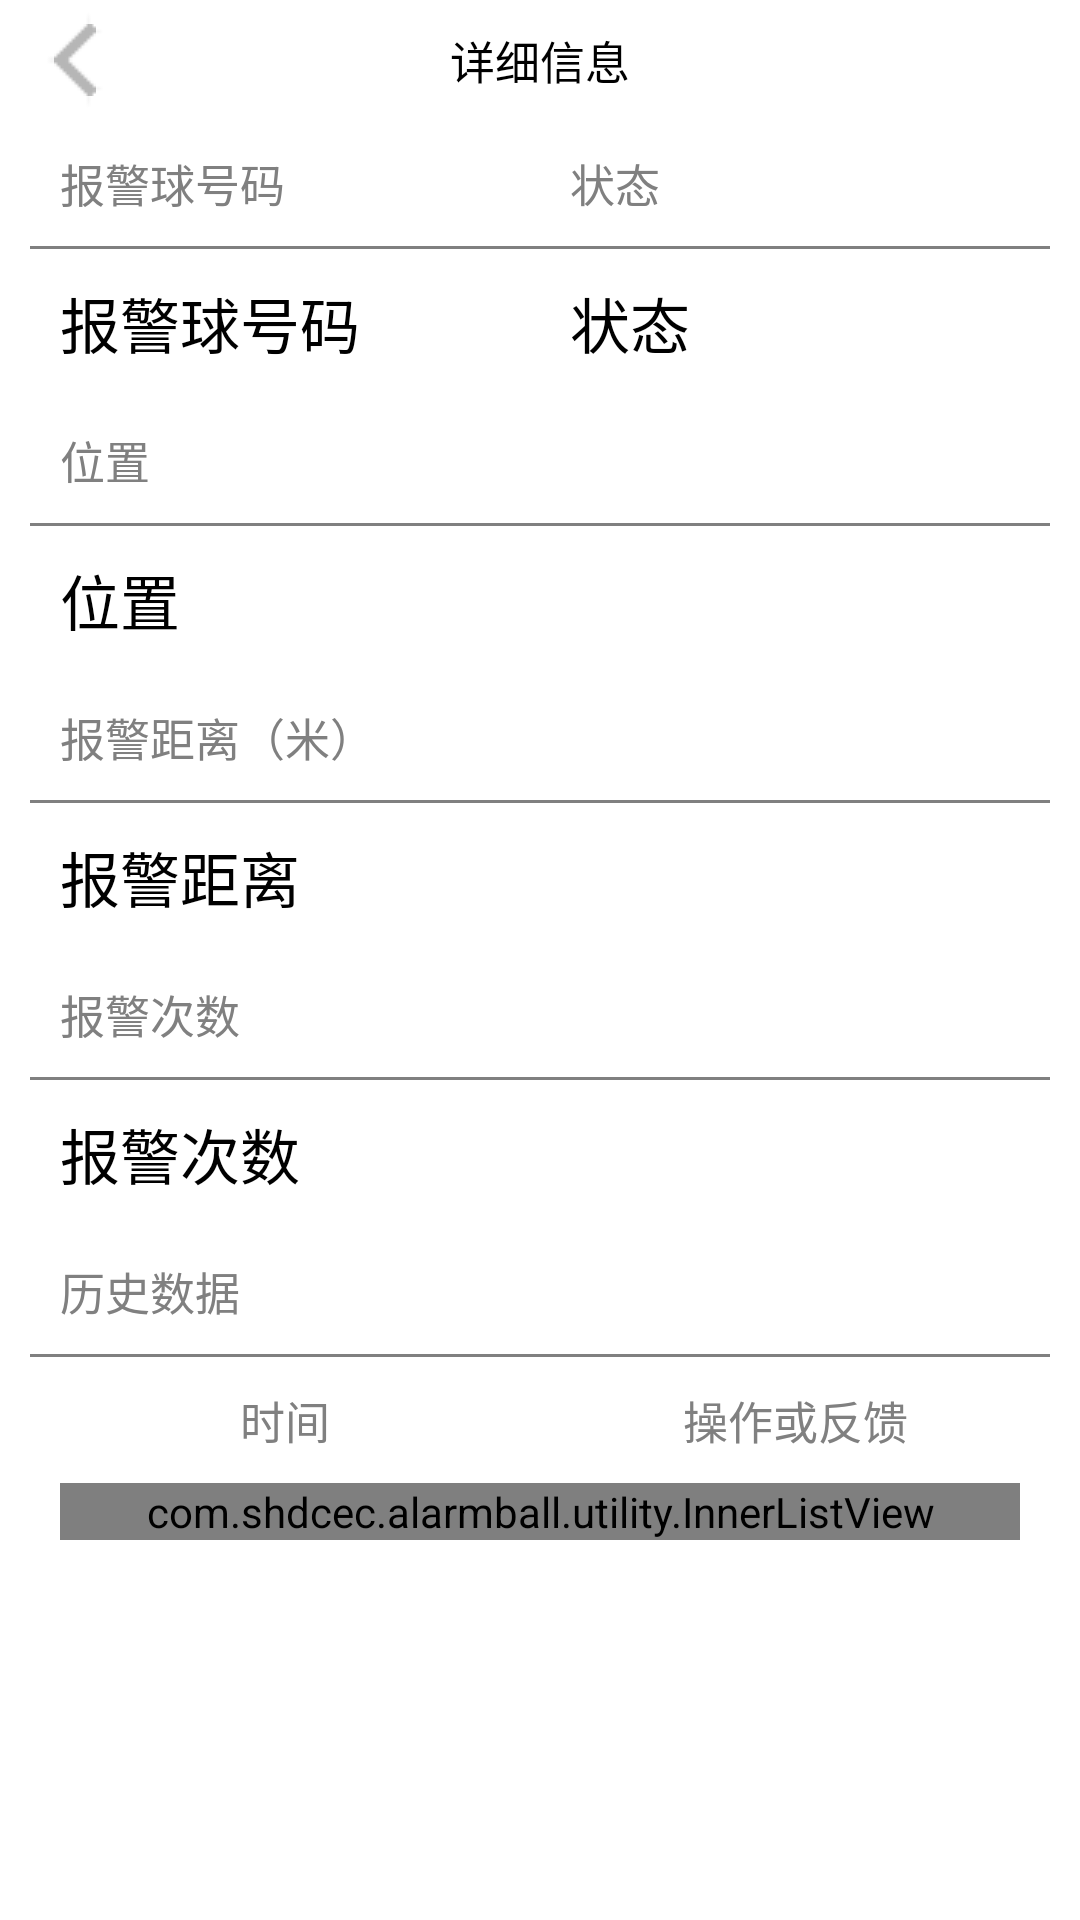

Where to tap for icons on this 1080×1920 app screen, as (x,y):
backward change: (75,60)
